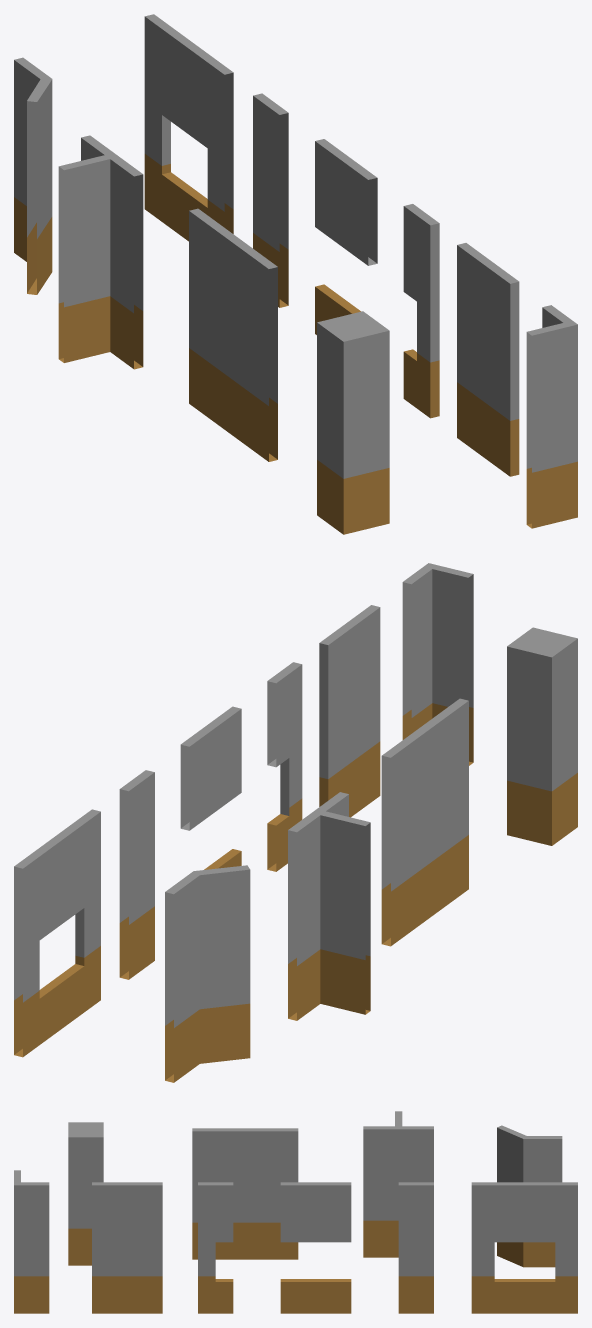
Rendered from SM_Wall_St1_BLOKING.fbx.
3 views of the same model, one above another, from view 1: azimuth 30°, elevation 25°; view 2: azimuth 150°, elevation 25°; view 3: azimuth 270°, elevation 25° (orthographic). The views are drawn at different scales.
Visible parts, largest first — view 1: SM_Wall_3x4, SM_Wall_T, SM_Wall_Stolb, SM_Wall_Win_3x4, SM_Wall_2x4, SM_Wall_L, SM_Wall_45, SM_Wall_Win_2x4, SM_Wall_Win_1x4, SM_Wall_1x4; view 2: SM_Wall_3x4, SM_Wall_45, SM_Wall_T, SM_Wall_Win_3x4, SM_Wall_Stolb, SM_Wall_2x4, SM_Wall_L, SM_Wall_1x4, SM_Wall_Win_2x4, SM_Wall_Win_1x4; view 3: SM_Wall_Win_3x4, SM_Wall_3x4, SM_Wall_2x4, SM_Wall_Win_2x4, SM_Wall_T, SM_Wall_L, SM_Wall_1x4, SM_Wall_45, SM_Wall_Stolb, SM_Wall_Win_1x4.
Part boxes in pixels (left/top/right/bottom): SM_Wall_3x4: left=189, top=208, right=277, bottom=461; SM_Wall_T: left=58, top=135, right=143, bottom=369; SM_Wall_Stolb: left=317, top=311, right=389, bottom=534; SM_Wall_Win_3x4: left=144, top=14, right=233, bottom=241; SM_Wall_2x4: left=457, top=243, right=519, bottom=476; SM_Wall_L: left=526, top=305, right=577, bottom=528; SM_Wall_45: left=14, top=57, right=52, bottom=294; SM_Wall_Win_2x4: left=315, top=139, right=377, bottom=334; SM_Wall_Win_1x4: left=403, top=204, right=439, bottom=418; SM_Wall_1x4: left=253, top=93, right=288, bottom=307; SM_Wall_3x4: left=381, top=698, right=468, bottom=946; SM_Wall_45: left=165, top=865, right=250, bottom=1082; SM_Wall_T: left=288, top=792, right=370, bottom=1020; SM_Wall_Win_3x4: left=14, top=809, right=100, bottom=1057; SM_Wall_Stolb: left=507, top=627, right=577, bottom=845; SM_Wall_2x4: left=319, top=605, right=380, bottom=817; SM_Wall_L: left=402, top=563, right=473, bottom=765; SM_Wall_1x4: left=119, top=770, right=154, bottom=979; SM_Wall_Win_2x4: left=180, top=706, right=241, bottom=869; SM_Wall_Win_1x4: left=267, top=662, right=302, bottom=871; SM_Wall_Win_3x4: left=471, top=1182, right=577, bottom=1313; SM_Wall_3x4: left=192, top=1128, right=298, bottom=1259; SM_Wall_2x4: left=92, top=1182, right=162, bottom=1313; SM_Wall_Win_2x4: left=280, top=1182, right=351, bottom=1313; SM_Wall_T: left=363, top=1111, right=433, bottom=1257; SM_Wall_L: left=14, top=1170, right=49, bottom=1313; SM_Wall_1x4: left=398, top=1182, right=433, bottom=1313; SM_Wall_45: left=497, top=1125, right=562, bottom=1267; SM_Wall_Stolb: left=68, top=1122, right=103, bottom=1265; SM_Wall_Win_1x4: left=198, top=1182, right=233, bottom=1313.
Bounding box in the file's own units: 493 × 400 × 1593.
